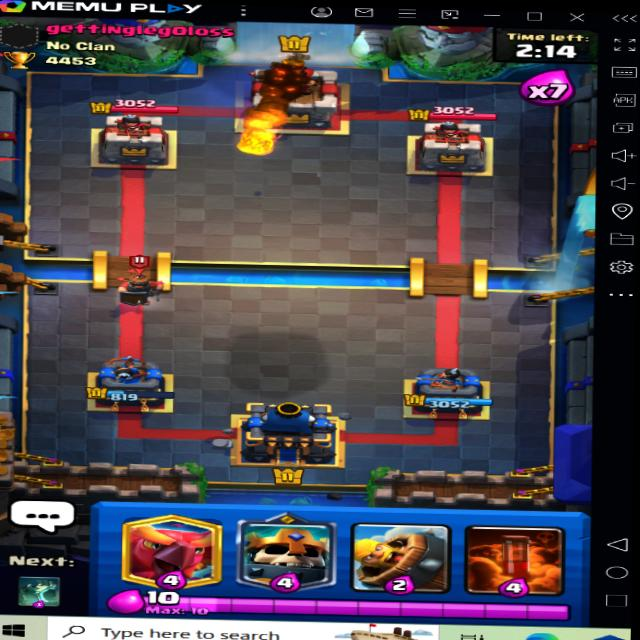Fireball: (229, 110, 295, 171)
Royalrecruits: (110, 255, 165, 308)
